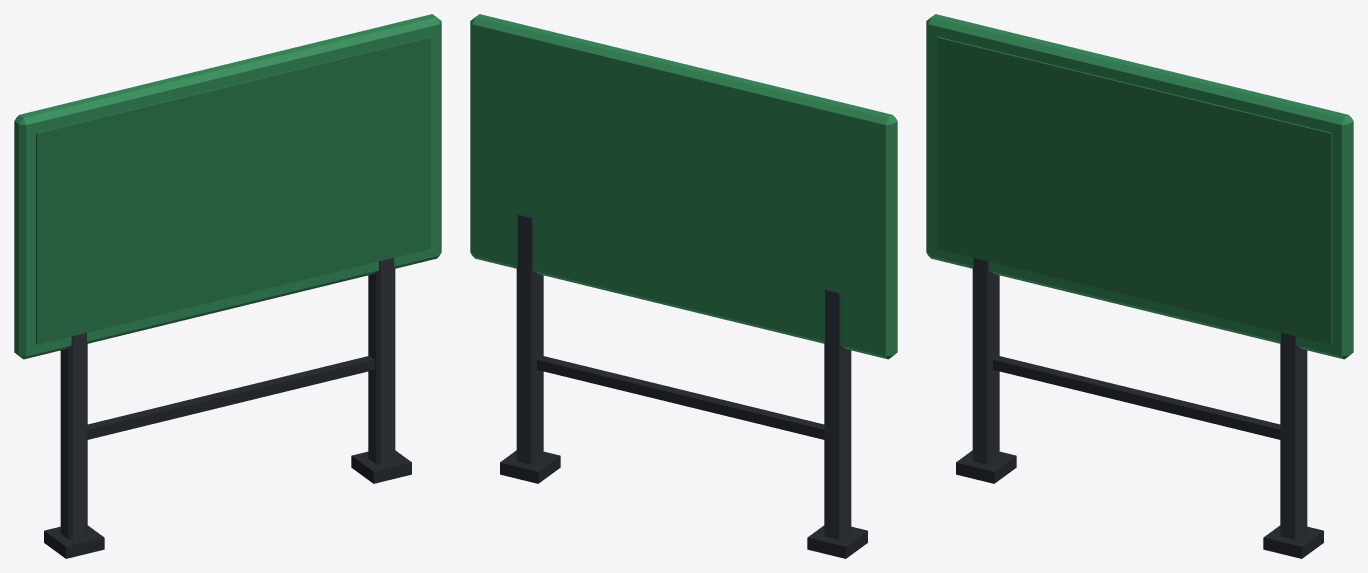
Rendered from prop_billboard_c.glb.
The picture shows the model from 3 angles, left to right: view 1: azimuth 30°, elevation 25°; view 2: azimuth 150°, elevation 25°; view 3: azimuth 330°, elevation 25°; orthographic projection.
Visible parts, largest first — view 1: prop; view 2: prop; view 3: prop.
Part boxes in pixels (bbox=[...]): prop: bbox=[14, 14, 441, 558]; prop: bbox=[470, 14, 897, 558]; prop: bbox=[926, 14, 1353, 558].
Size of the model in its own units: 4.4 by 4.4 by 0.4.
